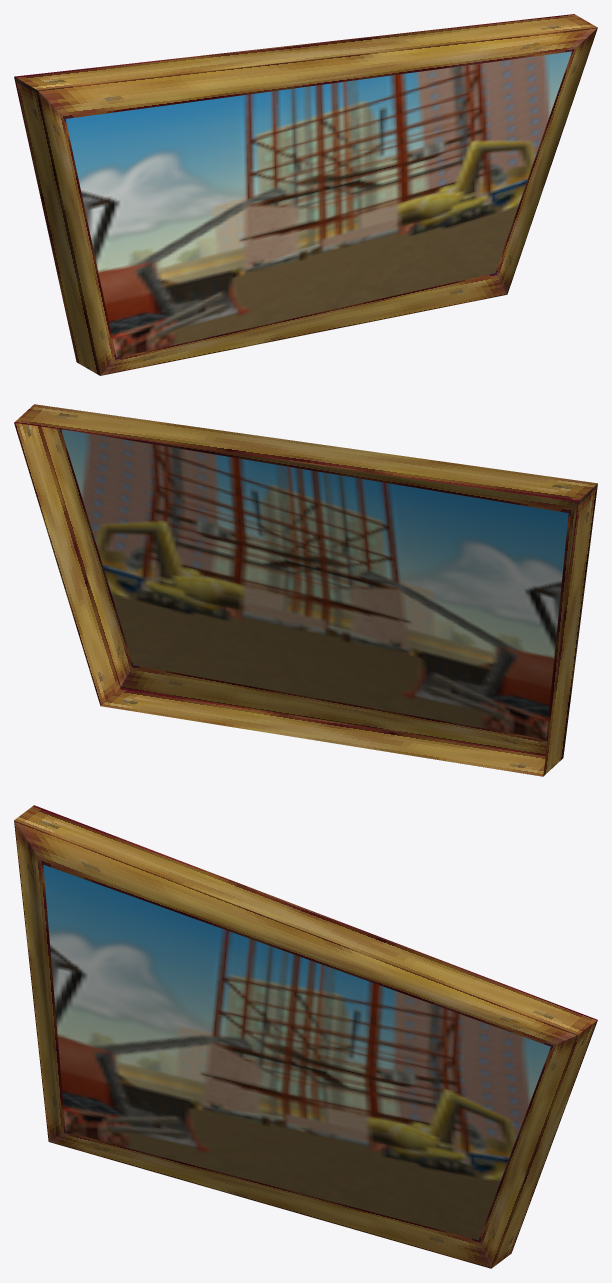
Rendered from Urban_Construction_Sign.FBX.
The picture shows the model from 3 angles, top to bottom: view 1: azimuth 30°, elevation 25°; view 2: azimuth 150°, elevation 25°; view 3: azimuth 330°, elevation 25°; orthographic projection. The views are drawn at different scales.
Parts seen in each view (by area): view 1: sign; view 2: sign; view 3: sign.
Part boxes in pixels (x1=…): sign: x1=14, y1=14, x2=597, y2=375; sign: x1=14, y1=404, x2=597, y2=776; sign: x1=14, y1=805, x2=597, y2=1268.
Size of the model in its own units: 349 by 190 by 39.45.
